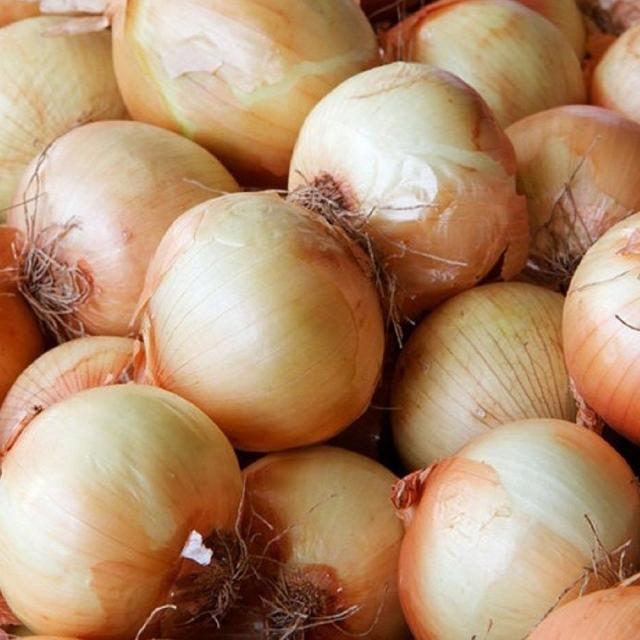onion: (1, 385, 241, 640), (155, 188, 368, 440), (302, 63, 520, 280), (397, 416, 640, 608), (242, 447, 396, 640), (20, 118, 150, 342), (109, 0, 342, 118)
